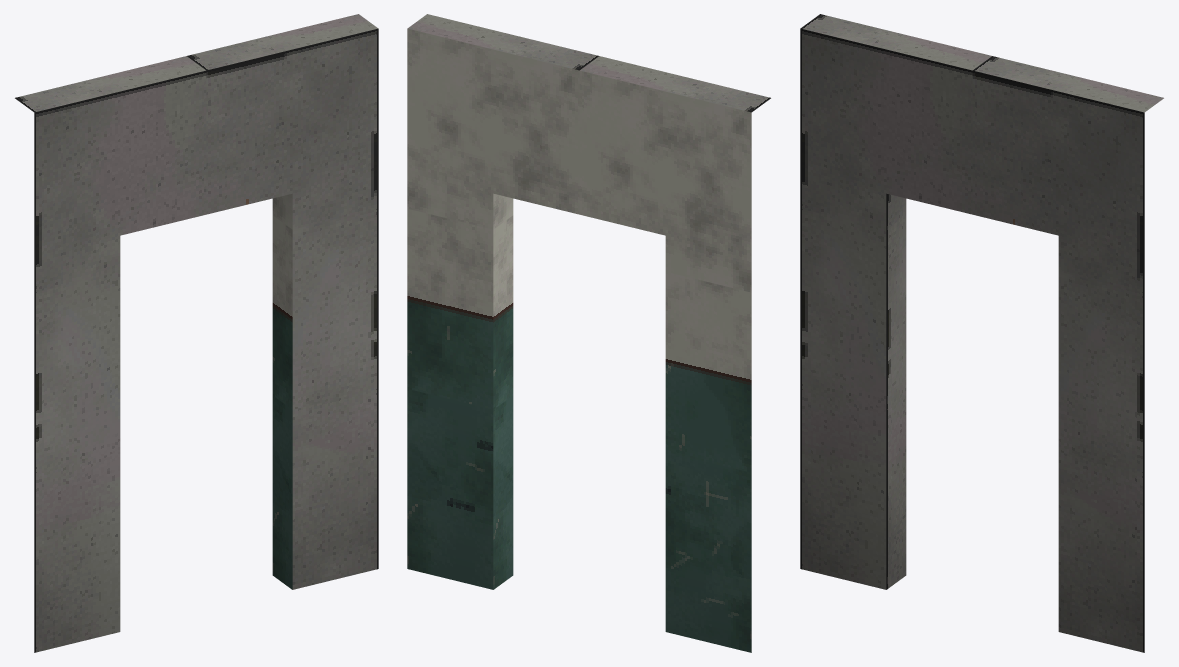
Rendered from wall_doorway_panel.glb.
3 renders of one model, left to right at view 1: azimuth 30°, elevation 25°; view 2: azimuth 150°, elevation 25°; view 3: azimuth 330°, elevation 25°, orthographic.
Parts seen in each view (by area): view 1: wall_doorway_panel; view 2: wall_doorway_panel; view 3: wall_doorway_panel.
Boxes of the visible parts, x1=… form: wall_doorway_panel: x1=15, y1=14, x2=378, y2=652; wall_doorway_panel: x1=407, y1=14, x2=770, y2=652; wall_doorway_panel: x1=800, y1=14, x2=1163, y2=652.
Bounding box in the file's own units: 2 × 3 × 0.2.
Materials: 3 (3 with a texture image).
